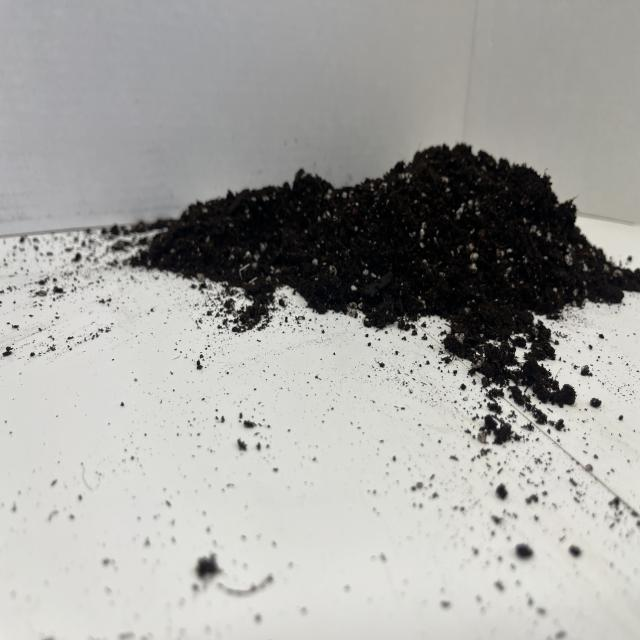soil: (132, 139, 637, 411)
